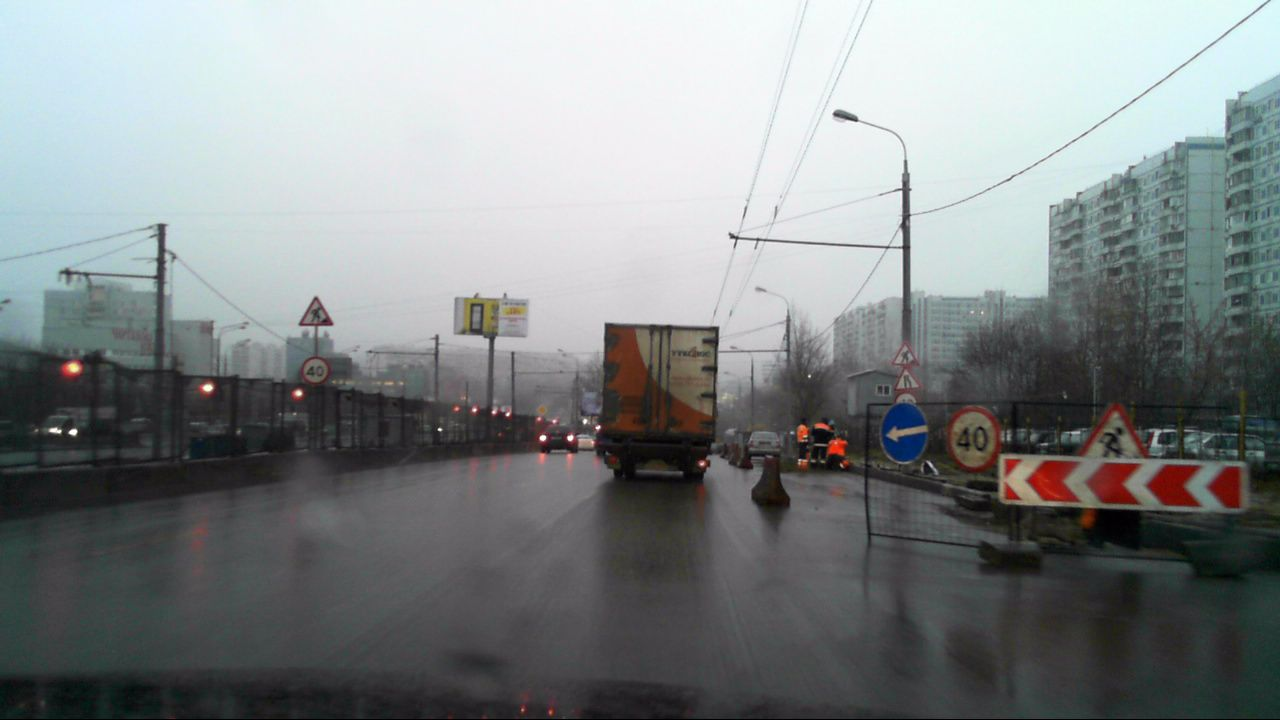Turn Left: (880, 403, 929, 464)
